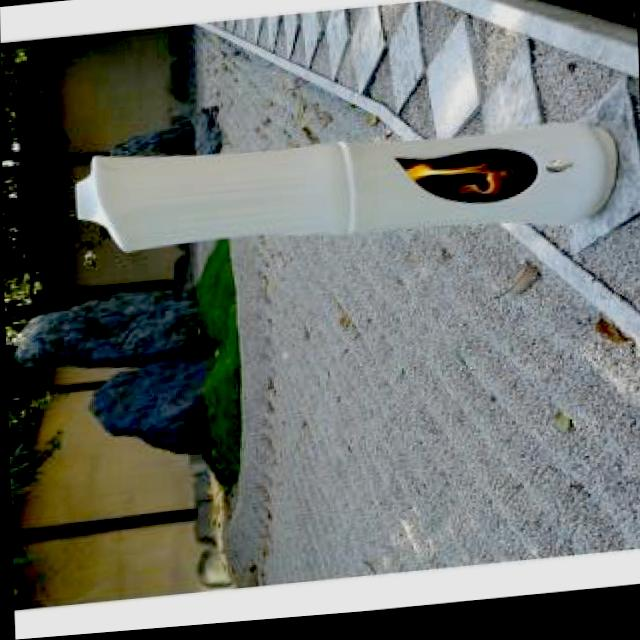Fire: (410, 153, 531, 212)
